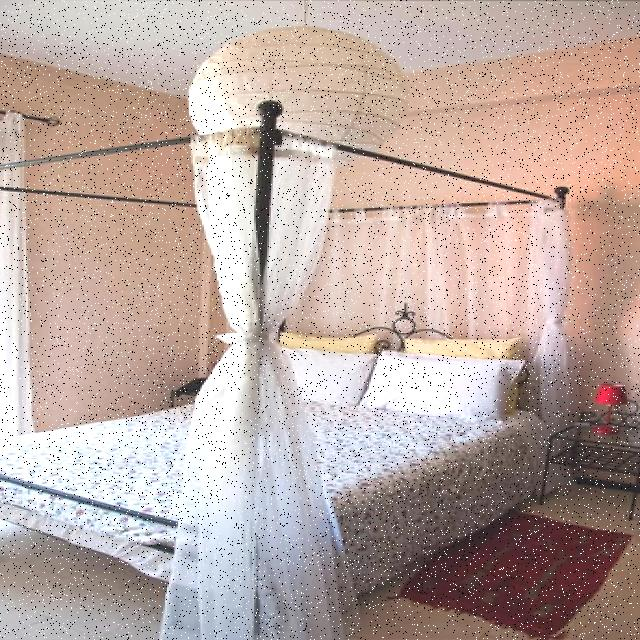bed: (0, 320, 575, 530)
